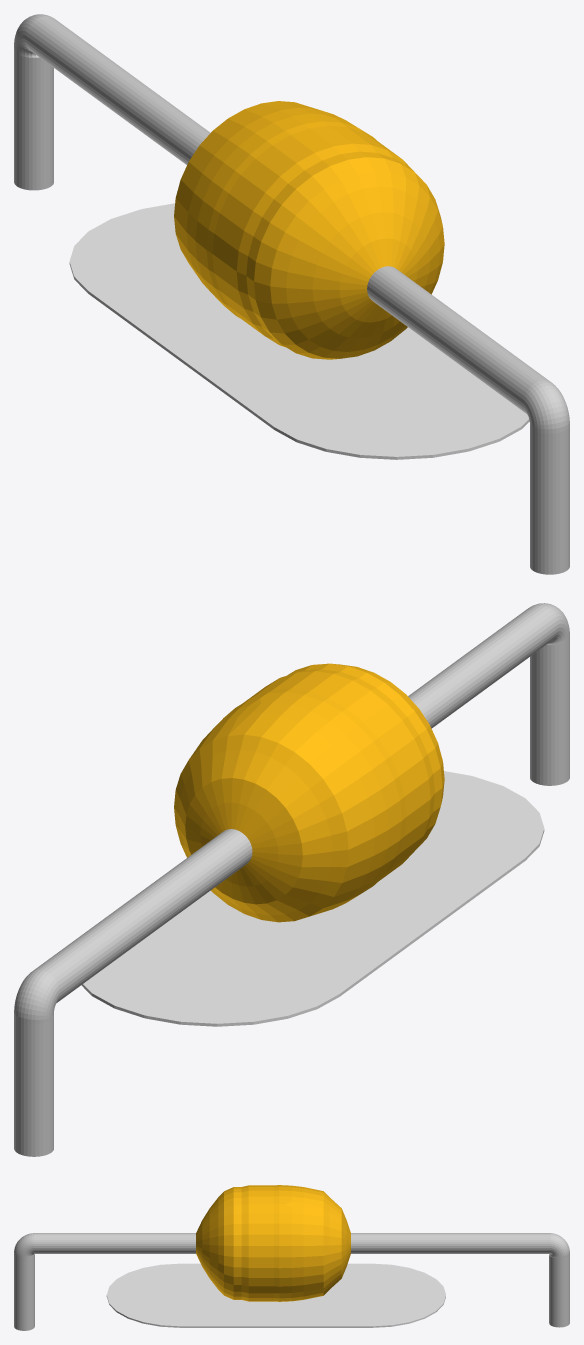
File: yellow_cap_3.gltf
3 views of the same model, one above another, from view 1: azimuth 30°, elevation 25°; view 2: azimuth 150°, elevation 25°; view 3: azimuth 270°, elevation 25° (orthographic). The views are drawn at different scales.
Parts seen in each view (by area): view 1: yellow_cap_3, yellow_cap_3_plane; view 2: yellow_cap_3, yellow_cap_3_plane; view 3: yellow_cap_3, yellow_cap_3_plane.
Boxes of the visible parts, x1,y1,x2,y2 form: yellow_cap_3: [14, 14, 569, 574]; yellow_cap_3_plane: [69, 203, 529, 459]; yellow_cap_3: [14, 603, 569, 1156]; yellow_cap_3_plane: [81, 771, 544, 1026]; yellow_cap_3: [14, 1185, 569, 1330]; yellow_cap_3_plane: [106, 1263, 445, 1327].
Size of the model in its own units: 0.018 by 0.0183 by 0.0676.
